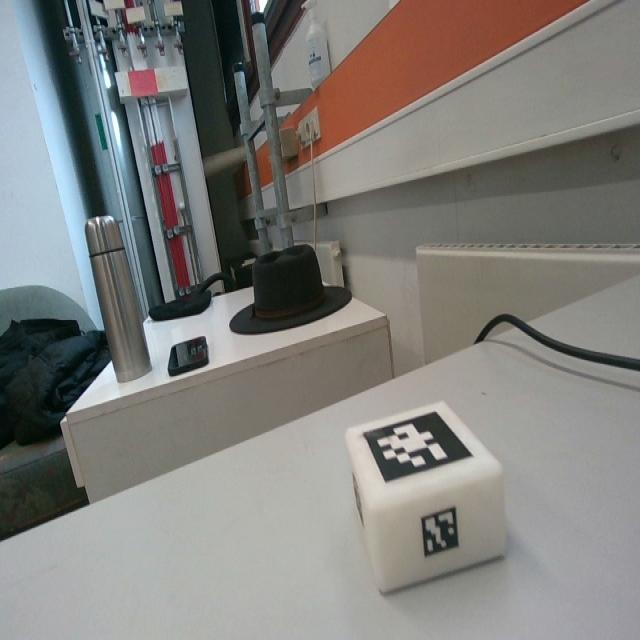Cube: (345, 397, 504, 595)
